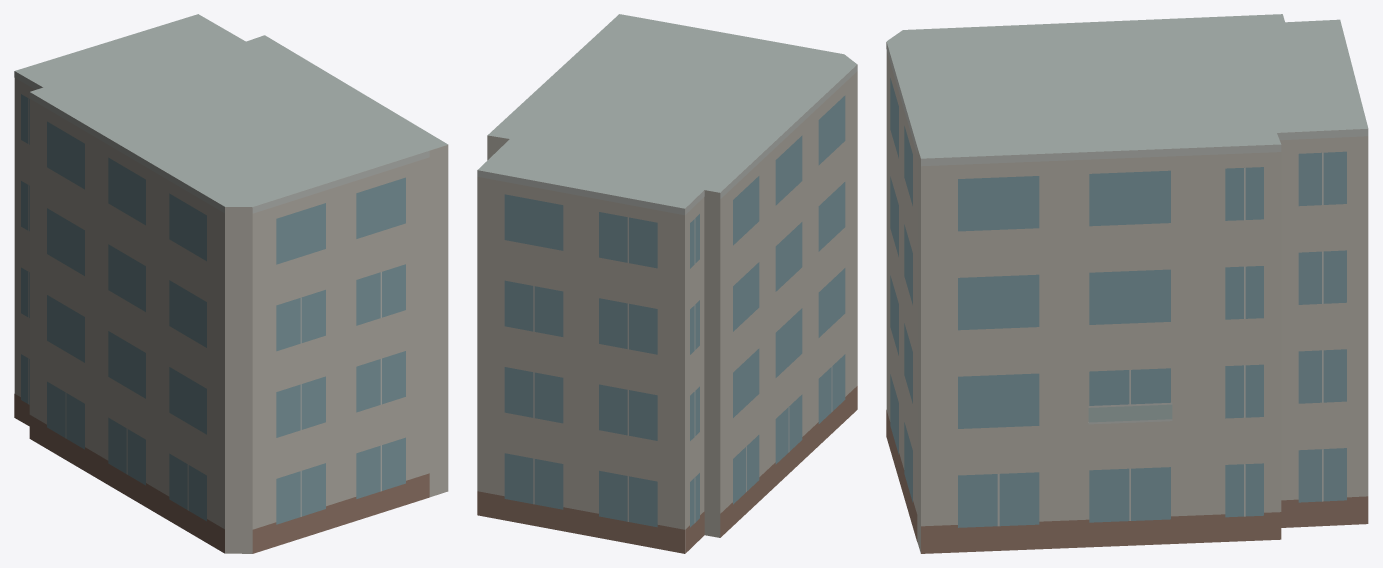
File: survey-upis-32971919.glb
The picture shows the model from 3 angles, left to right: view 1: azimuth 30°, elevation 25°; view 2: azimuth 150°, elevation 25°; view 3: azimuth 270°, elevation 25°; orthographic projection. The views are drawn at different scales.
Visible parts, largest first — view 1: survey-upis-32971919.tmp; view 2: survey-upis-32971919.tmp; view 3: survey-upis-32971919.tmp.
Boxes of the visible parts, bbox=[...] form: survey-upis-32971919.tmp: bbox=[14, 14, 448, 553]; survey-upis-32971919.tmp: bbox=[477, 14, 857, 553]; survey-upis-32971919.tmp: bbox=[886, 14, 1368, 553].
Size of the model in its own units: 10.06 by 12.8 by 14.16.
